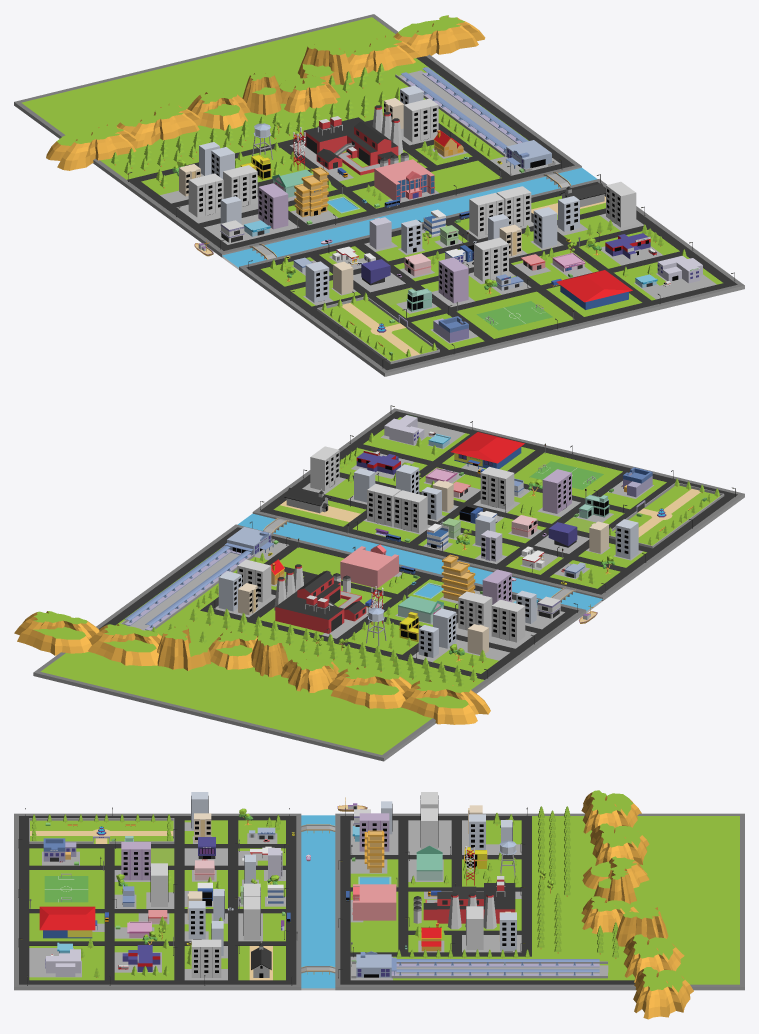
File: City.glb
The picture shows the model from 3 angles, top to bottom: view 1: azimuth 30°, elevation 25°; view 2: azimuth 150°, elevation 25°; view 3: azimuth 270°, elevation 25°; orthographic projection. The views are drawn at different scales.
Parts seen in each view (by area): view 1: I_Ground, I_Building, I_Street, I_Cliff, I_Pine Tree, I_Factory, I_Canal, I_Railway Station, I_Supermarket, I_University, I_Hotel, I_Football Field (+8 smaller); view 2: I_Ground, I_Building, I_Street, I_Cliff, I_Pine Tree, I_Factory, I_Canal, I_Railway Station, I_University, I_Supermarket, I_Hotel, I_Grocery Store (+9 smaller); view 3: I_Ground, I_Street, I_Cliff, I_Building, I_Canal, I_Pine Tree, I_Railway Station, I_Factory, I_Boundary, I_Supermarket, I_University, I_Football Field (+13 smaller).
Part boxes in pixels (<box>): I_Ground: <box>14,14,744,376</box>; I_Building: <box>179,85,636,303</box>; I_Street: <box>127,56,737,370</box>; I_Cliff: <box>46,15,485,170</box>; I_Pine Tree: <box>111,63,686,360</box>; I_Factory: <box>303,105,408,175</box>; I_Canal: <box>222,168,597,267</box>; I_Railway Station: <box>401,67,551,168</box>; I_Supermarket: <box>556,270,632,309</box>; I_University: <box>374,159,434,201</box>; I_Hotel: <box>294,167,328,217</box>; I_Football Field: <box>476,301,552,330</box>; I_Ground: <box>33,408,744,761</box>; I_Building: <box>218,446,638,657</box>; I_Street: <box>99,411,737,679</box>; I_Cliff: <box>14,611,490,724</box>; I_Pine Tree: <box>152,433,719,687</box>; I_Factory: <box>274,564,366,633</box>; I_Canal: <box>237,513,602,610</box>; I_Railway Station: <box>124,527,273,630</box>; I_University: <box>340,544,398,588</box>; I_Supermarket: <box>450,432,524,468</box>; I_Hotel: <box>441,554,475,600</box>; I_Grocery Store: <box>399,494,609,641</box>; I_Ground: <box>14,813,744,990</box>; I_Street: <box>19,816,634,984</box>; I_Cliff: <box>581,790,693,1019</box>; I_Building: <box>121,792,516,977</box>; I_Canal: <box>301,815,335,988</box>; I_Pine Tree: <box>32,806,618,977</box>; I_Railway Station: <box>356,951,599,977</box>; I_Factory: <box>413,876,515,929</box>; I_Boundary: <box>29,818,607,978</box>; I_Supermarket: <box>39,906,97,938</box>; I_University: <box>352,884,396,920</box>; I_Football Field: <box>44,873,88,902</box>.
Size of what is drawn, in the model's own units: 662 by 76.44 by 936.
Materials: 1 (1 with a texture image).
